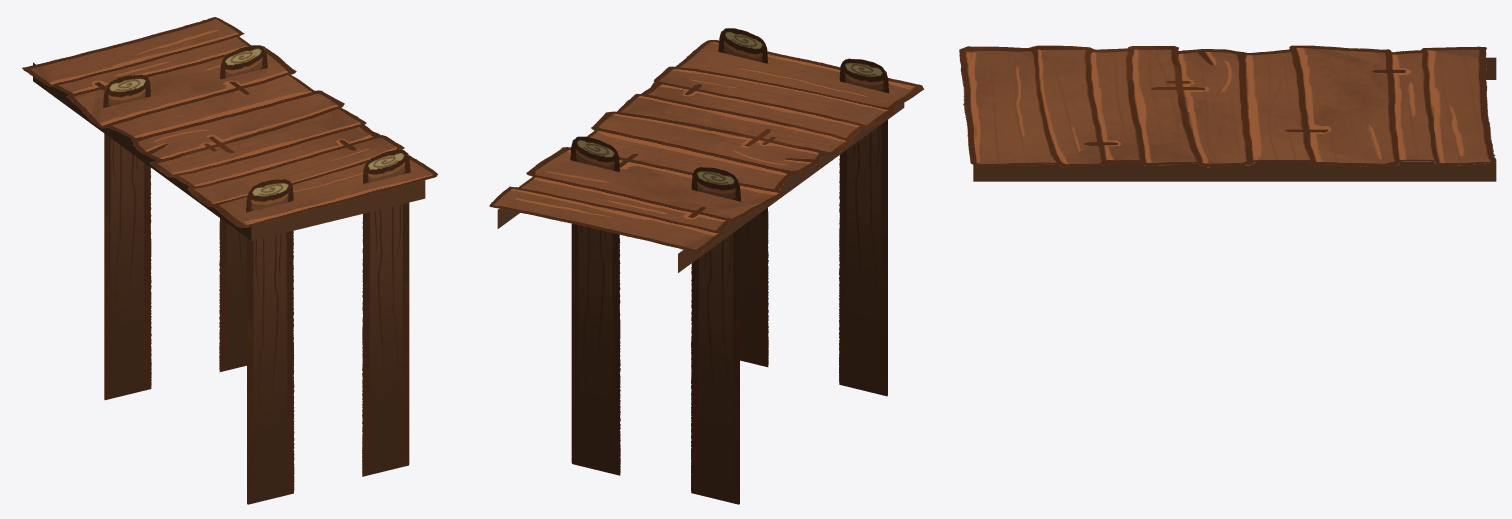
The model's file is SM_Bridge.fbx.
3 views of the same model, side by side, from view 1: azimuth 30°, elevation 25°; view 2: azimuth 150°, elevation 25°; view 3: azimuth 270°, elevation 25° (orthographic). The views are drawn at different scales.
Parts seen in each view (by area): view 1: SM_Bridge.001; view 2: SM_Bridge.001; view 3: SM_Bridge.001.
Part boxes in pixels (x1,y1,x2,y2): SM_Bridge.001: (22, 17, 437, 504); SM_Bridge.001: (489, 28, 924, 504); SM_Bridge.001: (959, 45, 1496, 181).
Size of the model in its own units: 280 by 418 by 520.
